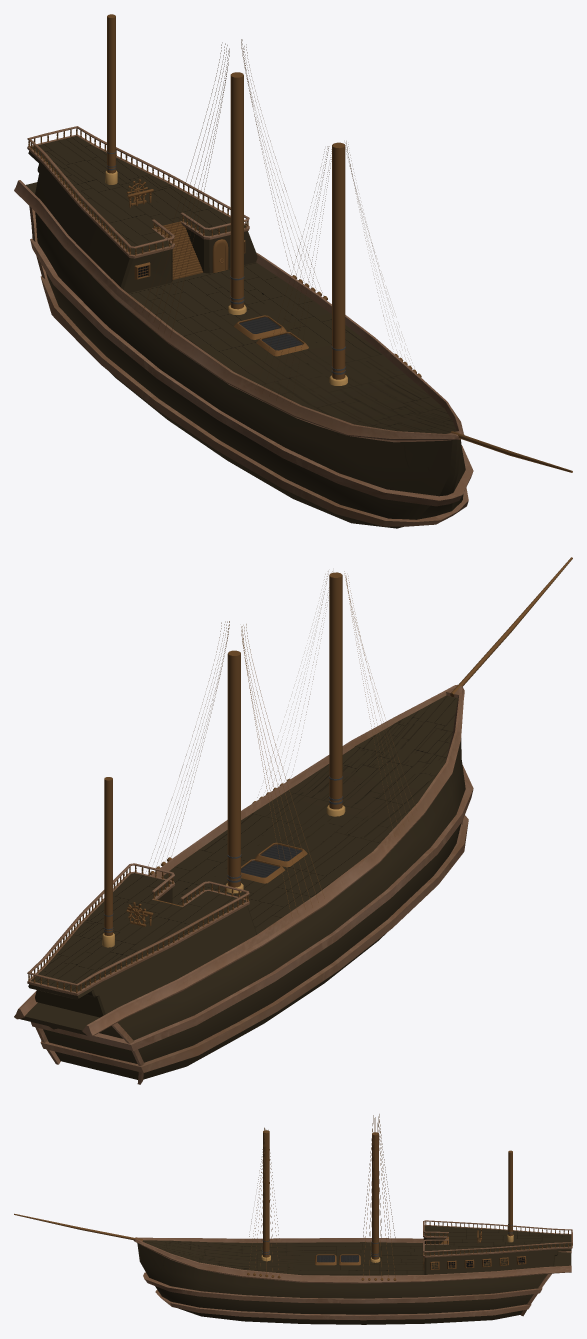
The model's file is CUSMANGEMISI.fbx.
3 renders of one model, top to bottom at view 1: azimuth 30°, elevation 25°; view 2: azimuth 150°, elevation 25°; view 3: azimuth 270°, elevation 25°, orthographic. The views are drawn at different scales.
Parts seen in each view (by area): view 1: Hull, çıta.003, çıta, yelken, ip.001, çıta.004, çıta.002, Cylinder.003, merdiven; view 2: Hull, çıta.003, çıta, yelken, ip.001, çıta.002, çıta.004, Cylinder.003, ön; view 3: Hull, çıta.003, çıta, yelken, ip.001, çıta.004, çıta.002, ip, Cylinder.003, ön.
Boxes of the visible parts, x1,y1,x2,y2 form: Hull: (26, 136, 465, 528); çıta.003: (30, 238, 473, 526); çıta: (14, 180, 464, 442); yelken: (105, 14, 347, 385); ip.001: (142, 39, 323, 337); çıta.004: (27, 126, 249, 248); çıta.002: (27, 135, 249, 258); Cylinder.003: (28, 128, 248, 255); merdiven: (153, 221, 203, 279); Hull: (20, 695, 465, 1079); çıta.003: (31, 764, 473, 1072); çıta: (14, 684, 464, 1036); yelken: (102, 572, 345, 947); ip.001: (146, 621, 324, 917); çıta.002: (27, 871, 249, 995); çıta.004: (27, 863, 249, 985); Cylinder.003: (28, 865, 248, 992); ön: (450, 557, 572, 696); Hull: (137, 1225, 571, 1324); çıta.003: (143, 1272, 542, 1320); çıta: (133, 1237, 571, 1283); yelken: (261, 1130, 513, 1262); ip.001: (363, 1114, 395, 1277); çıta.004: (423, 1220, 572, 1252); çıta.002: (423, 1225, 572, 1257); ip: (249, 1127, 279, 1275); Cylinder.003: (423, 1221, 572, 1255); ön: (14, 1213, 142, 1241).
Bounding box in the file's own units: 3.29 × 6.07 × 16.2.
